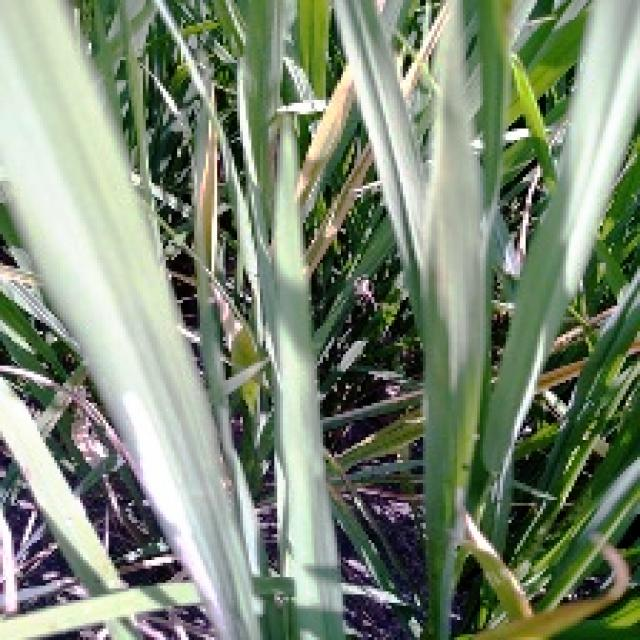health: (2, 0, 259, 640)
